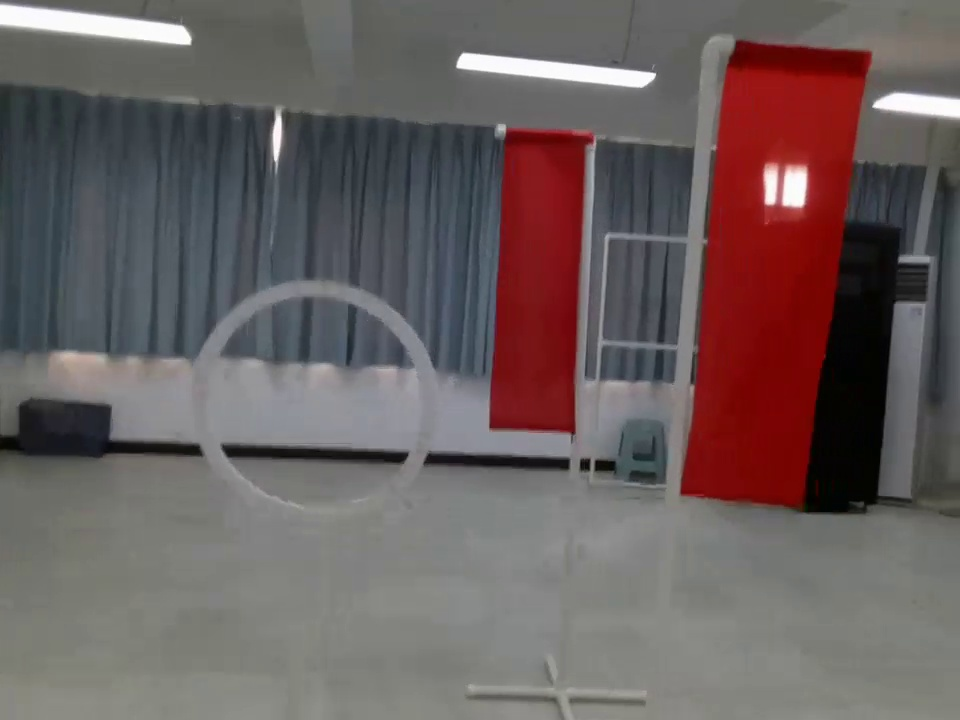qi: (669, 18, 859, 526), (484, 103, 599, 458)
quan: (181, 274, 432, 529)
